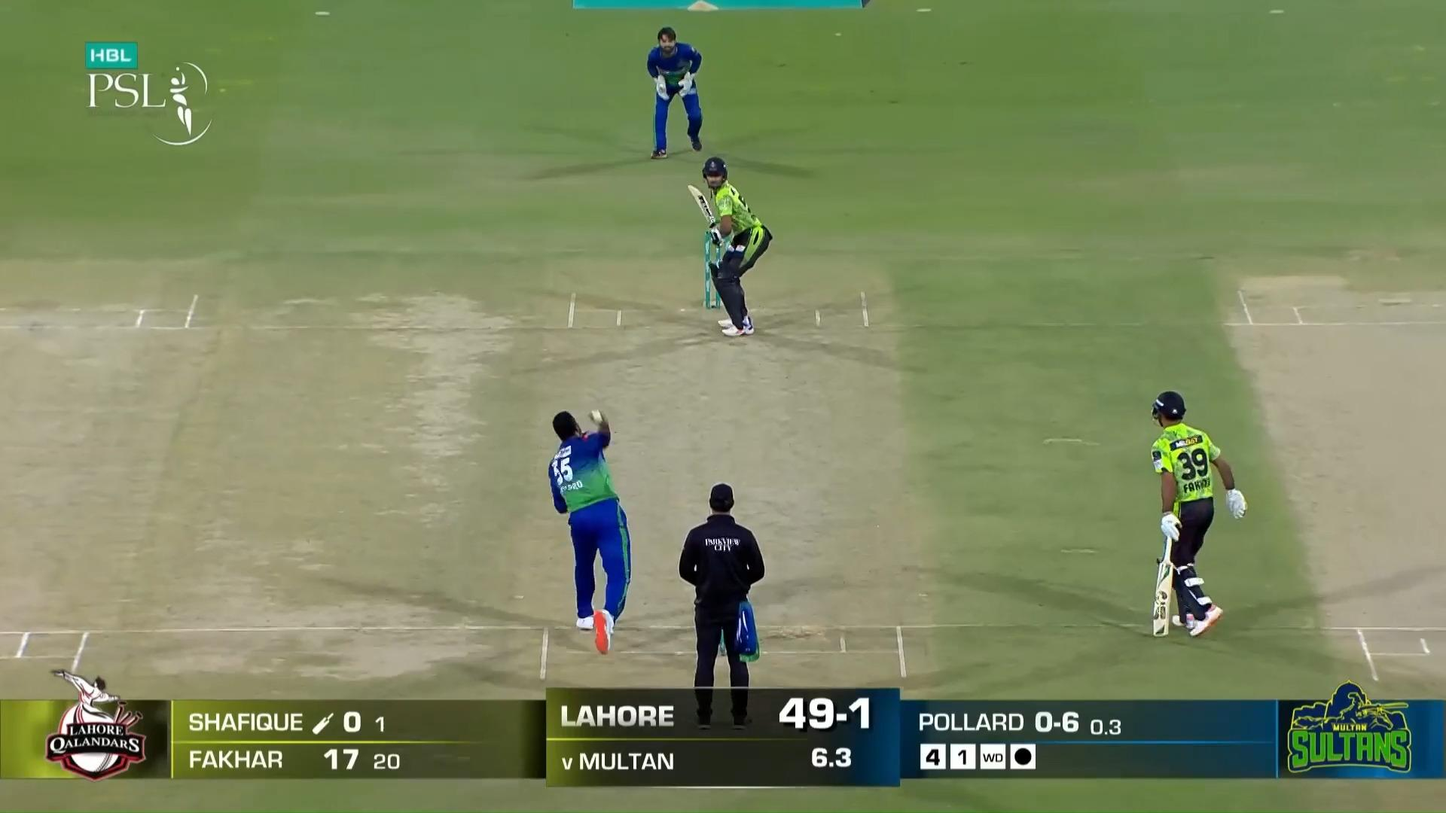batsman: (687, 155, 773, 338)
